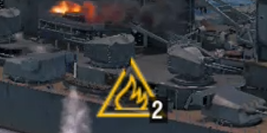2fire: (90, 83, 167, 125)
